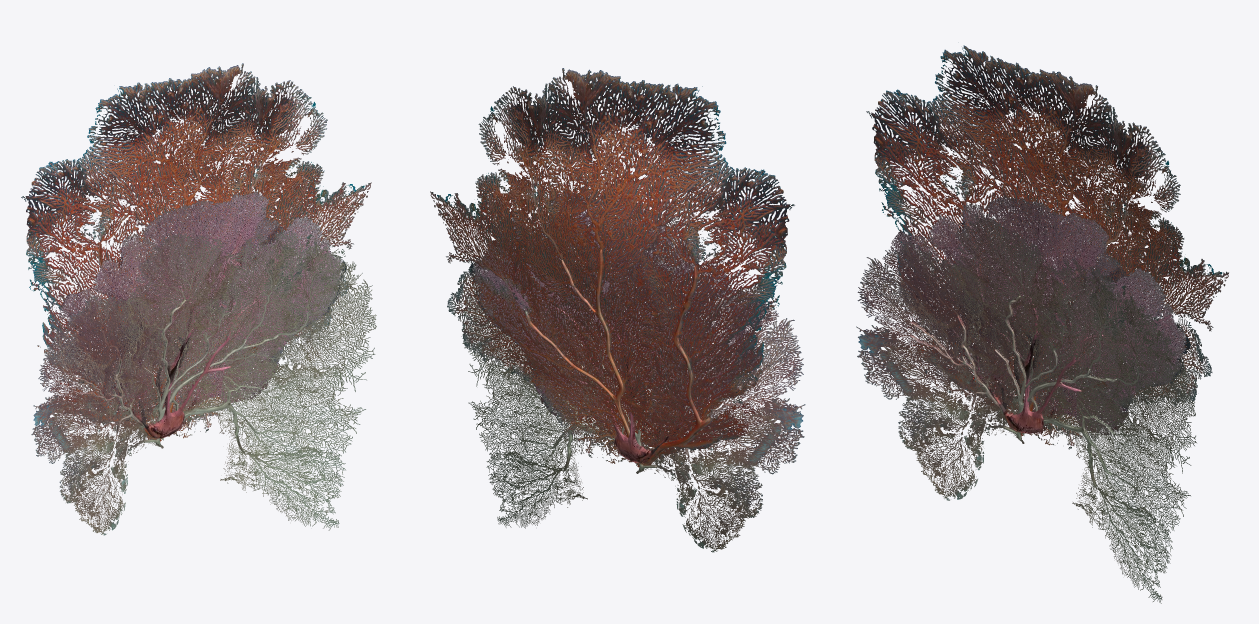
File: sea-fans.glb
3 views of the same model, side by side, from view 1: azimuth 30°, elevation 25°; view 2: azimuth 150°, elevation 25°; view 3: azimuth 330°, elevation 25° (orthographic). The views are drawn at different scales.
Parts seen in each view (by area): view 1: fan1, fan0, fan2; view 2: fan0, fan1, fan2; view 3: fan1, fan0, fan2.
Boxes of the visible parts, left/top/right/bottom form: fan1: left=31, top=228, right=376, bottom=535; fan0: left=21, top=63, right=371, bottom=441; fan2: left=58, top=191, right=346, bottom=438; fan0: left=430, top=68, right=794, bottom=467; fan1: left=462, top=214, right=805, bottom=552; fan2: left=469, top=190, right=770, bottom=463; fan1: left=856, top=213, right=1196, bottom=603; fan0: left=866, top=45, right=1228, bottom=449; fan2: left=890, top=196, right=1190, bottom=435.
Bounding box in the file's own units: 1.01 × 1.29 × 0.1631.
Materials: 6 (6 with a texture image).
